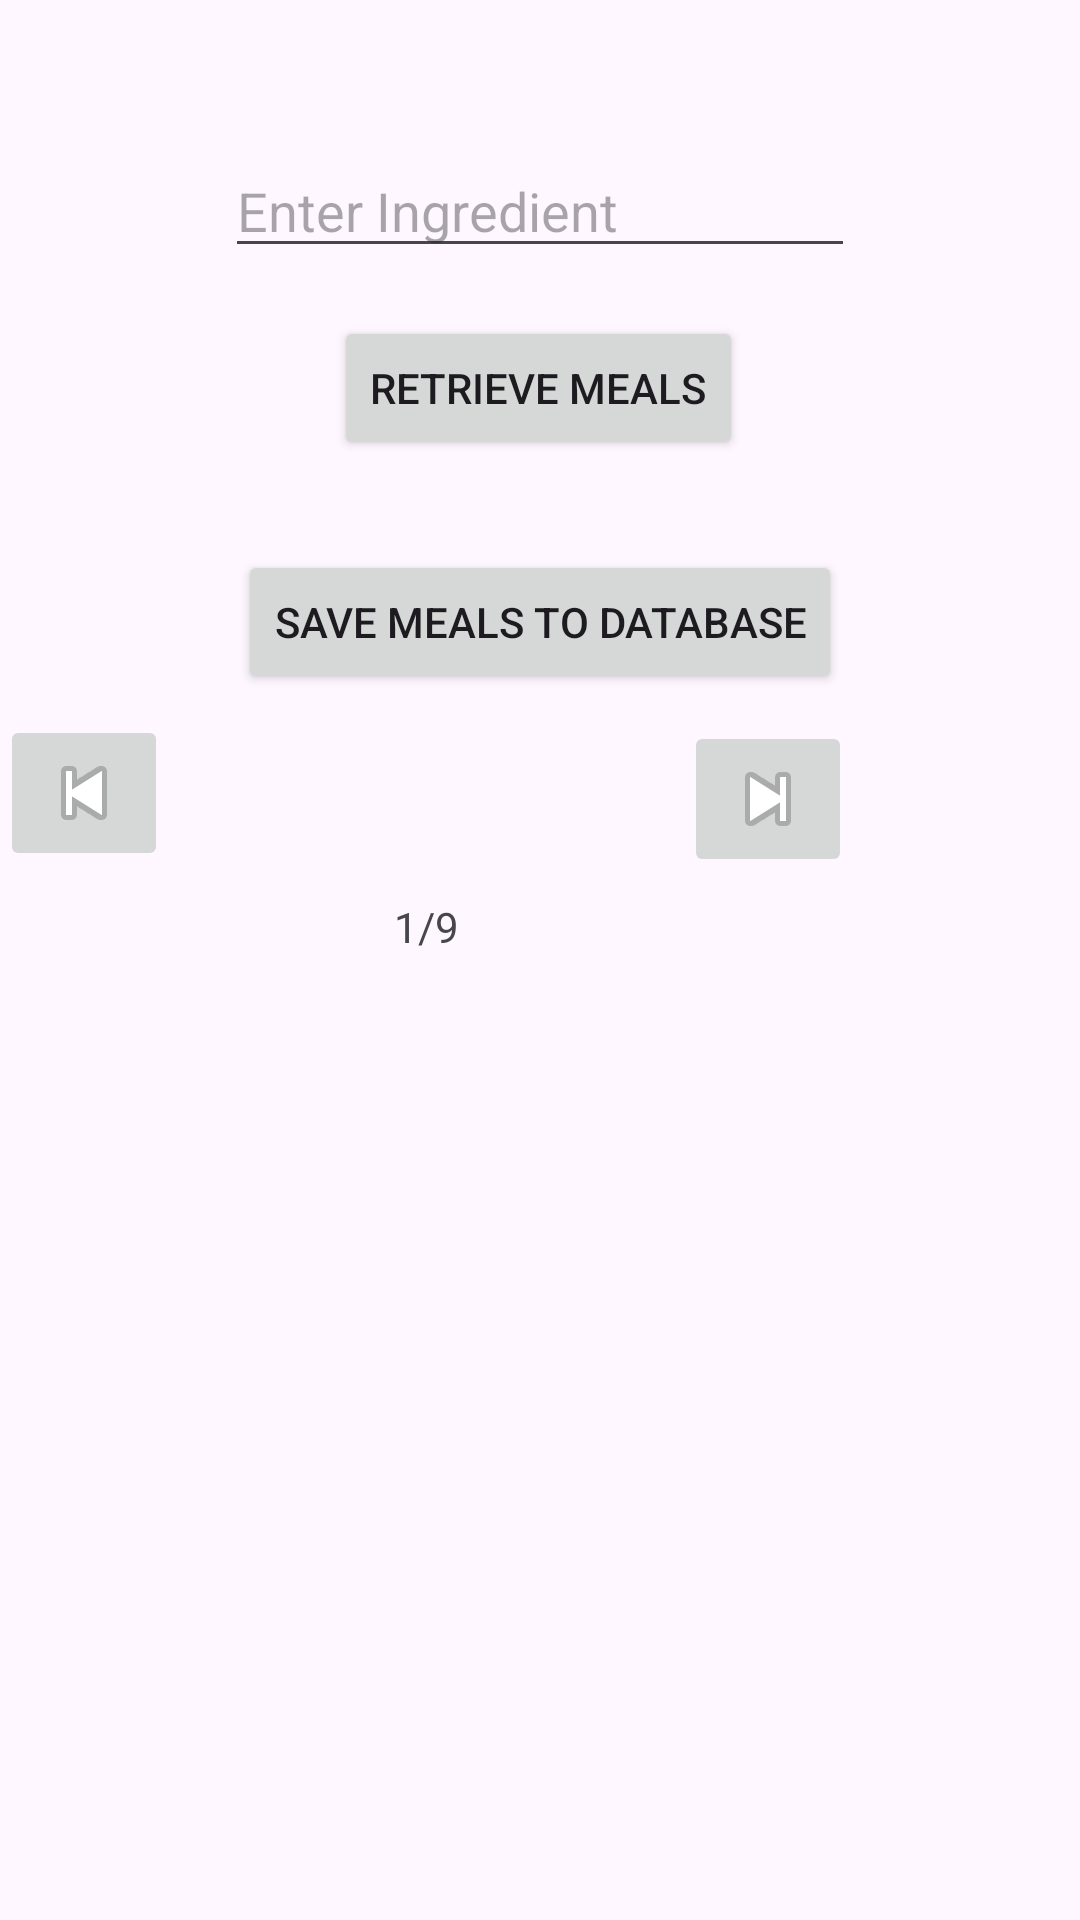

Locate icon controls on the screen. Image size 1080x1920, boxes as (x1, y1, x2, y2).
next: (696, 739, 840, 859)
previous: (12, 733, 156, 853)
